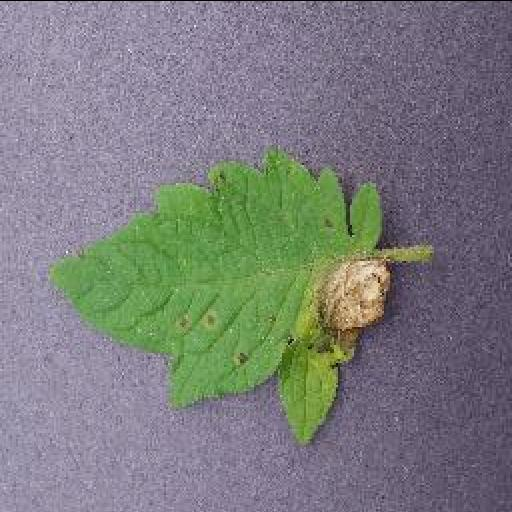disease_tomato: (45, 150, 391, 440)
